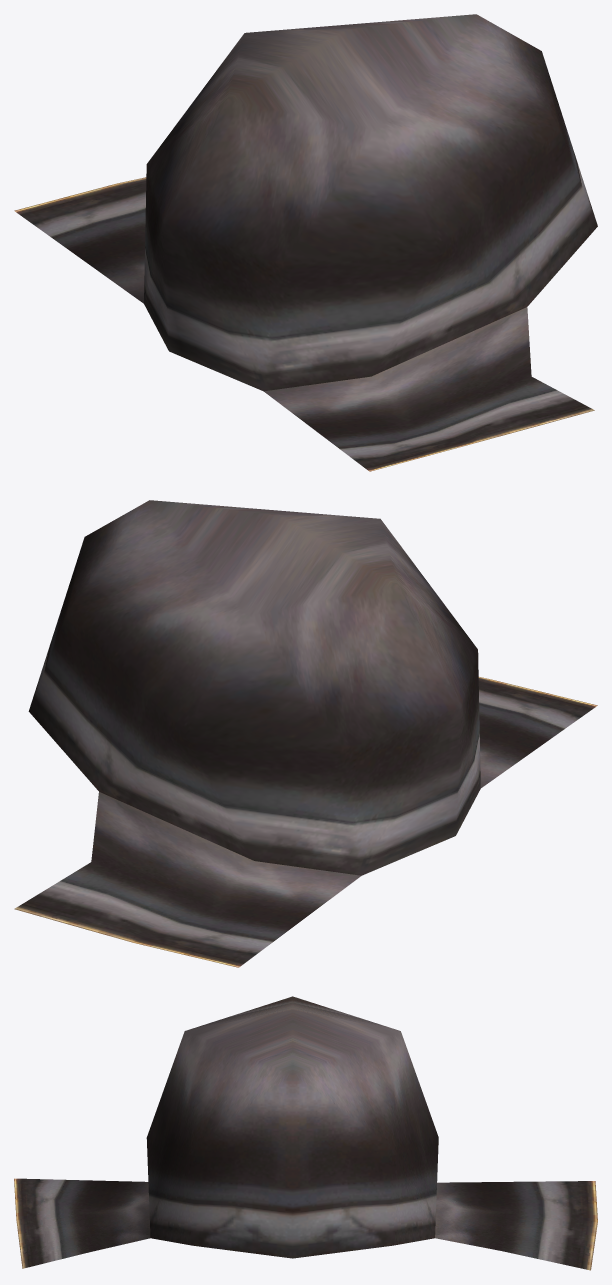
The model's file is armorleatherhelmblackflat.obj.
3 views of the same model, one above another, from view 1: azimuth 30°, elevation 25°; view 2: azimuth 150°, elevation 25°; view 3: azimuth 270°, elevation 25° (orthographic). The views are drawn at different scales.
Visible parts, largest first — view 1: armorleatherhelmblackflat; view 2: armorleatherhelmblackflat; view 3: armorleatherhelmblackflat.
Boxes of the visible parts, x1,y1,x2,y2 form: armorleatherhelmblackflat: (14,14,597,471); armorleatherhelmblackflat: (14,500,597,967); armorleatherhelmblackflat: (14,996,597,1270).
Size of the model in its own units: 0.3507 by 0.2316 by 0.5337.
1 material, 1 textured.
